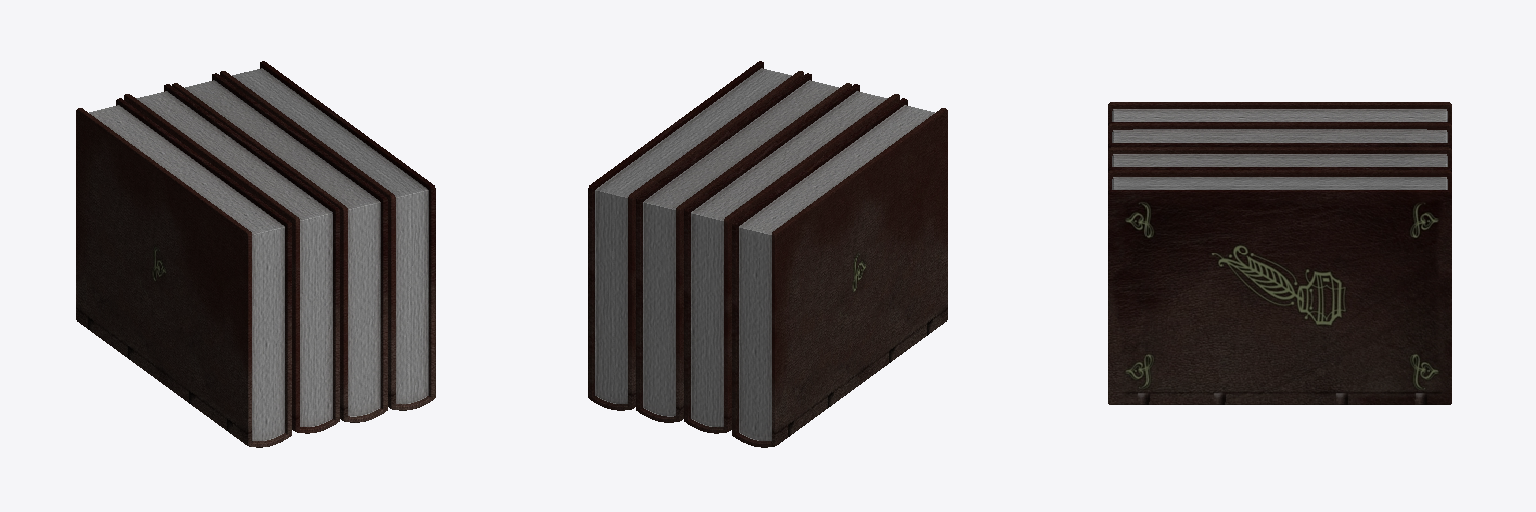
3 renders of one model, left to right at view 1: azimuth 30°, elevation 25°; view 2: azimuth 150°, elevation 25°; view 3: azimuth 270°, elevation 25°, orthographic.
Parts seen in each view (by area): view 1: 10268_Books_Reference; view 2: 10268_Books_Reference; view 3: 10268_Books_Reference.
Boxes of the visible parts, <box> form: 10268_Books_Reference: <box>76,61,435,447</box>; 10268_Books_Reference: <box>588,61,947,447</box>; 10268_Books_Reference: <box>1108,102,1451,404</box>.
Size of the model in its own units: 12.39 by 13.9 by 19.6.
1 materials, 1 textured.